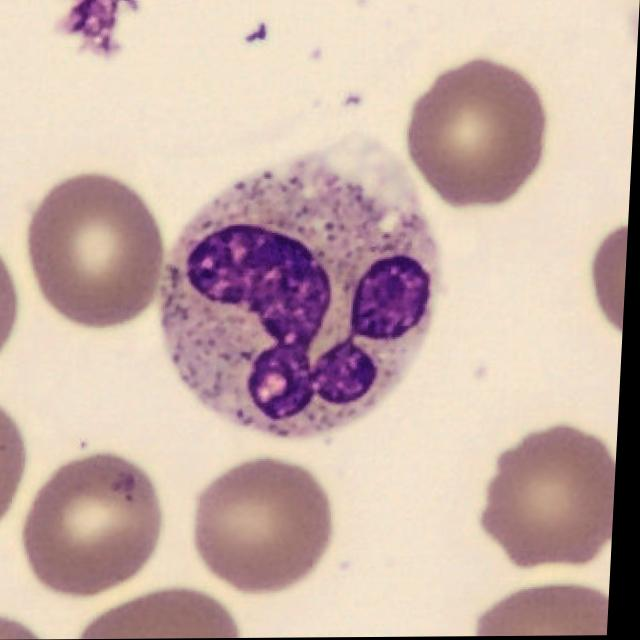Neutrofilo segmentado: (162, 132, 445, 439)
